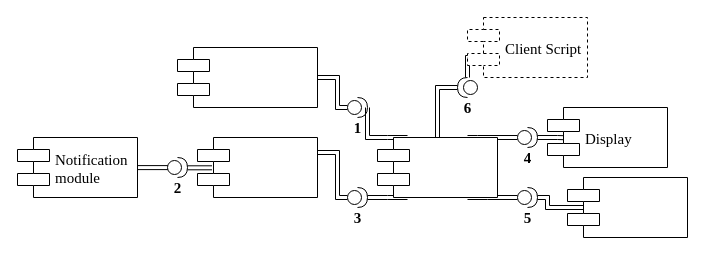
The diagram is 705 pixels wide and 255 high, and some of its shapes have lost their labels. The shapes that lost their labels are listed below. From the top down, each one's box as (x1, y1, x2, y2) in pixels, then its label:
(176, 46, 318, 108): MobileNetSSD
(196, 136, 318, 198): Event Handler
(376, 136, 498, 198): Counting server
(566, 176, 688, 238): Log system and storage
